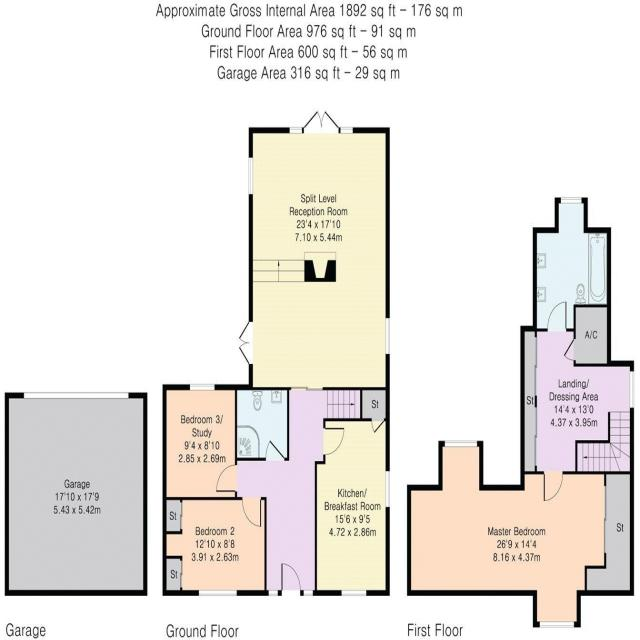DOOR: (281, 562, 301, 596), (547, 300, 567, 332), (323, 427, 345, 456), (215, 464, 237, 493), (543, 471, 563, 502), (241, 497, 261, 528), (265, 438, 285, 461)
DOUBLE DOOR: (230, 302, 255, 372), (301, 105, 340, 134)
ROOM: (238, 109, 390, 390), (407, 440, 634, 628), (520, 301, 635, 502), (315, 418, 390, 596), (162, 497, 267, 596), (162, 384, 237, 500)
WINDOW: (198, 589, 237, 596), (444, 440, 478, 448), (539, 621, 575, 628), (629, 370, 635, 409), (385, 470, 390, 508), (248, 157, 253, 195), (385, 317, 390, 355), (341, 589, 367, 596), (189, 384, 215, 391), (560, 197, 582, 204), (289, 126, 303, 134), (340, 127, 353, 134), (303, 589, 313, 596), (268, 590, 278, 596)
